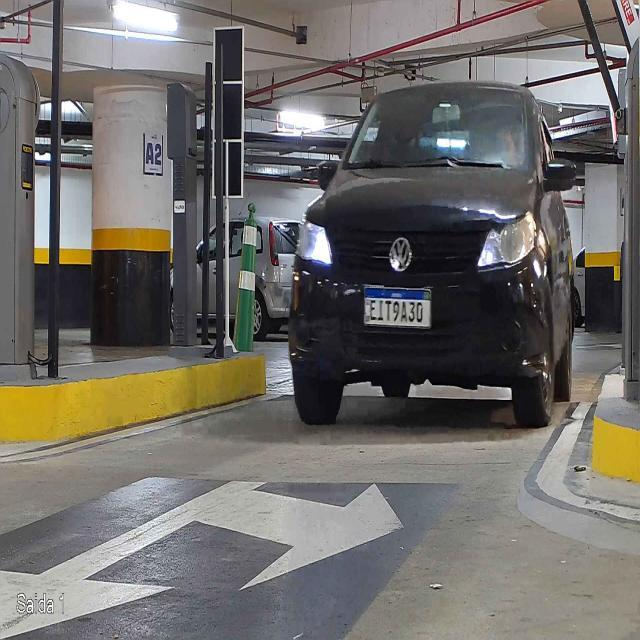mercosul_plate: (362, 285, 433, 330)
